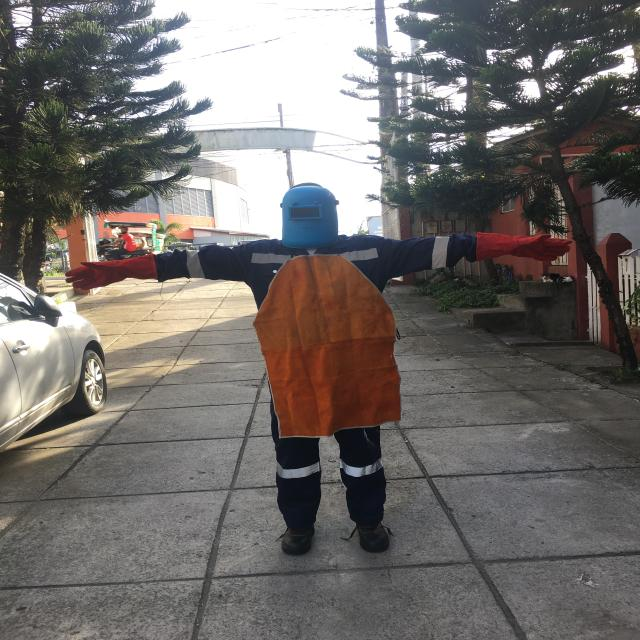with_helmet: (275, 181, 354, 252)
